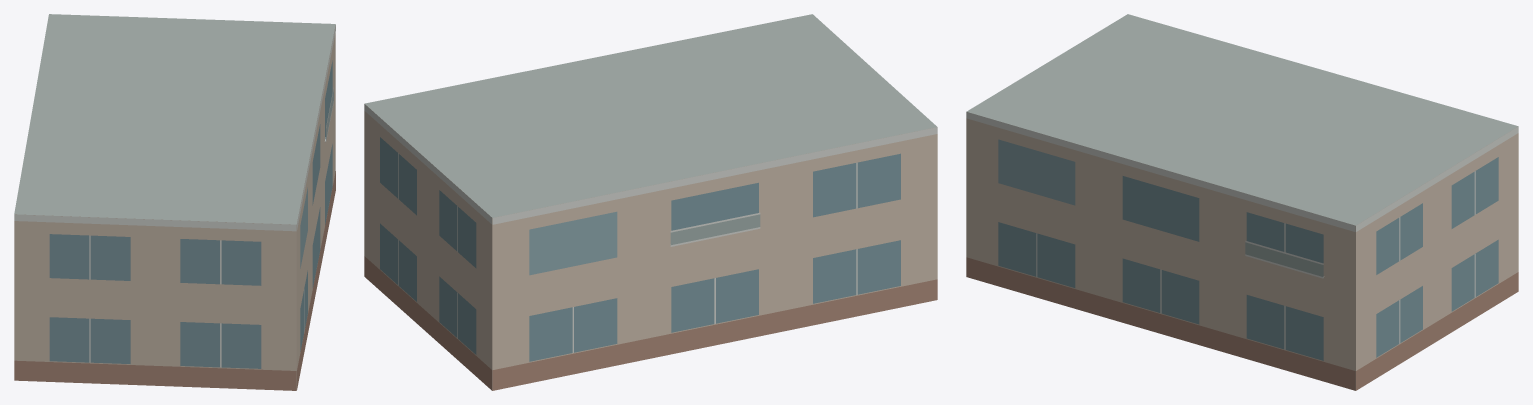
File: survey-upis-32771626.glb
3 views of the same model, side by side, from view 1: azimuth 30°, elevation 25°; view 2: azimuth 150°, elevation 25°; view 3: azimuth 270°, elevation 25° (orthographic). The views are drawn at different scales.
Visible parts, largest first — view 1: survey-upis-32771626.tmp; view 2: survey-upis-32771626.tmp; view 3: survey-upis-32771626.tmp.
Boxes of the visible parts, box(x1,y1,x2,y2) form: survey-upis-32771626.tmp: box(14, 14, 335, 390); survey-upis-32771626.tmp: box(364, 14, 937, 390); survey-upis-32771626.tmp: box(966, 14, 1518, 390).
Size of the model in its own units: 16.77 by 6.1 by 18.49.
